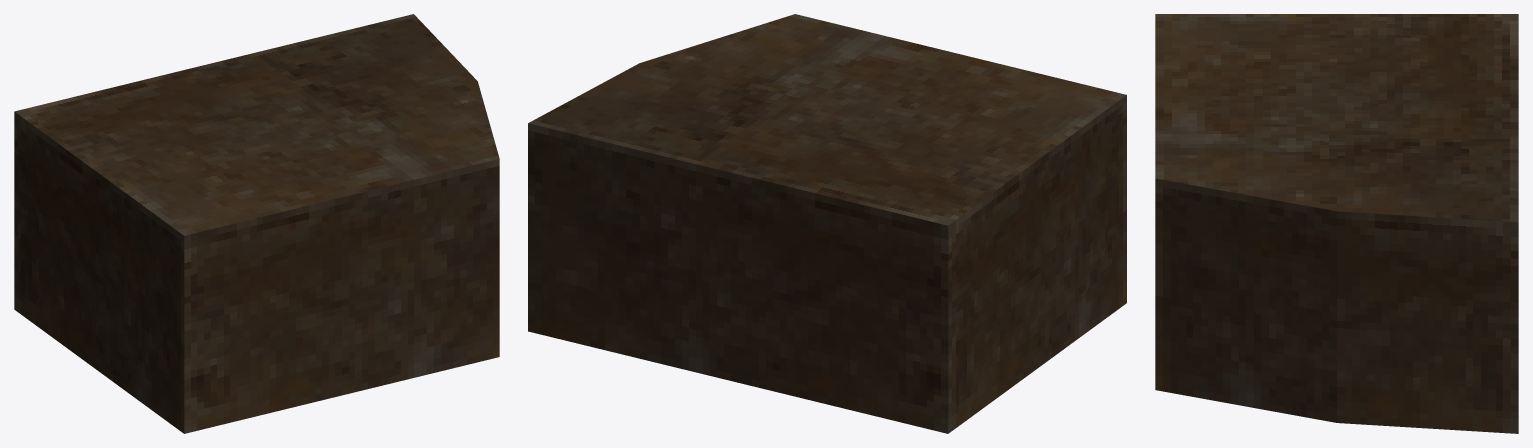
The model's file is brick_mx_1_1.glb.
The picture shows the model from 3 angles, left to right: view 1: azimuth 30°, elevation 25°; view 2: azimuth 150°, elevation 25°; view 3: azimuth 270°, elevation 25°; orthographic projection. The views are drawn at different scales.
Visible parts, largest first — view 1: brick_mx_1_1; view 2: brick_mx_1_1; view 3: brick_mx_1_1.
Boxes of the visible parts, left/top/right/bottom form: brick_mx_1_1: left=14, top=14, right=499, bottom=433; brick_mx_1_1: left=528, top=14, right=1126, bottom=433; brick_mx_1_1: left=1155, top=14, right=1518, bottom=433.
Size of the model in its own units: 0.19 by 0.09 by 0.14.
1 material, 1 textured.
